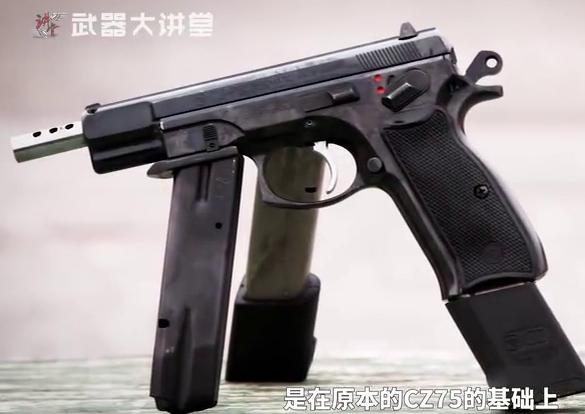gun: (1, 0, 585, 414)
